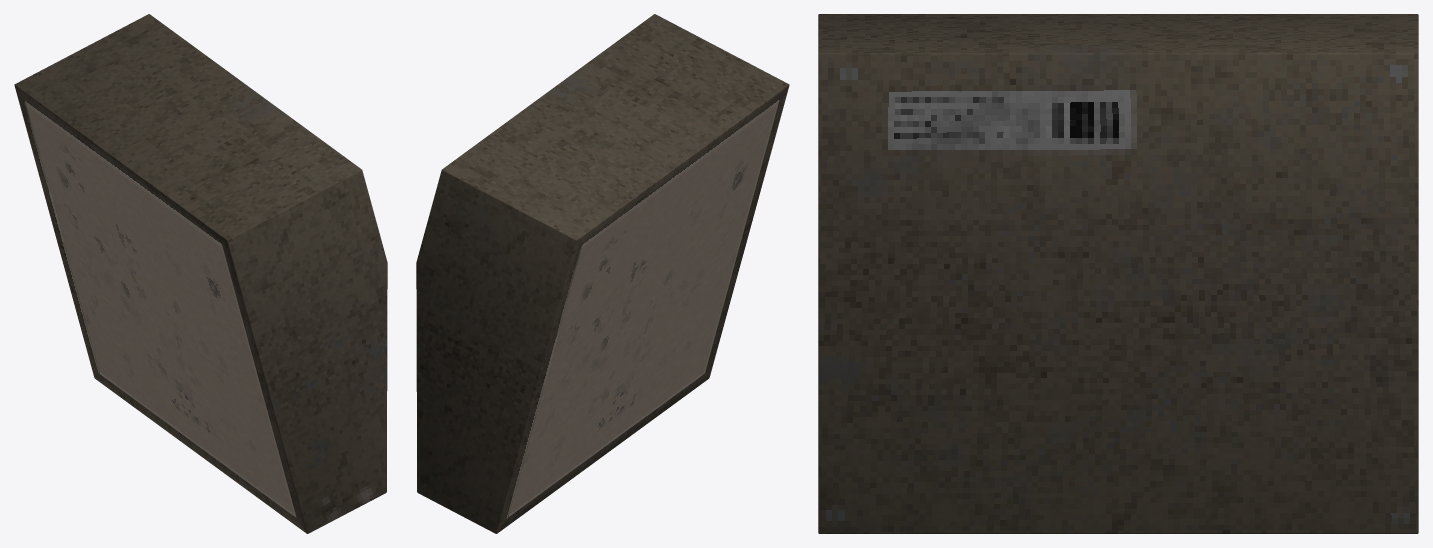
Rendered from speaker.glb.
The picture shows the model from 3 angles, left to right: view 1: azimuth 30°, elevation 25°; view 2: azimuth 150°, elevation 25°; view 3: azimuth 270°, elevation 25°; orthographic projection. The views are drawn at different scales.
Parts seen in each view (by area): view 1: audio_Material.003_0; view 2: audio_Material.003_0; view 3: audio_Material.003_0.
Boxes of the visible parts, x1,y1,x2,y2 form: audio_Material.003_0: (14,14,387,533); audio_Material.003_0: (416,14,789,533); audio_Material.003_0: (818,14,1418,533).
Bounding box in the file's own units: 0.2075 × 0.4336 × 0.477.
Materials: 1 (1 with a texture image).
